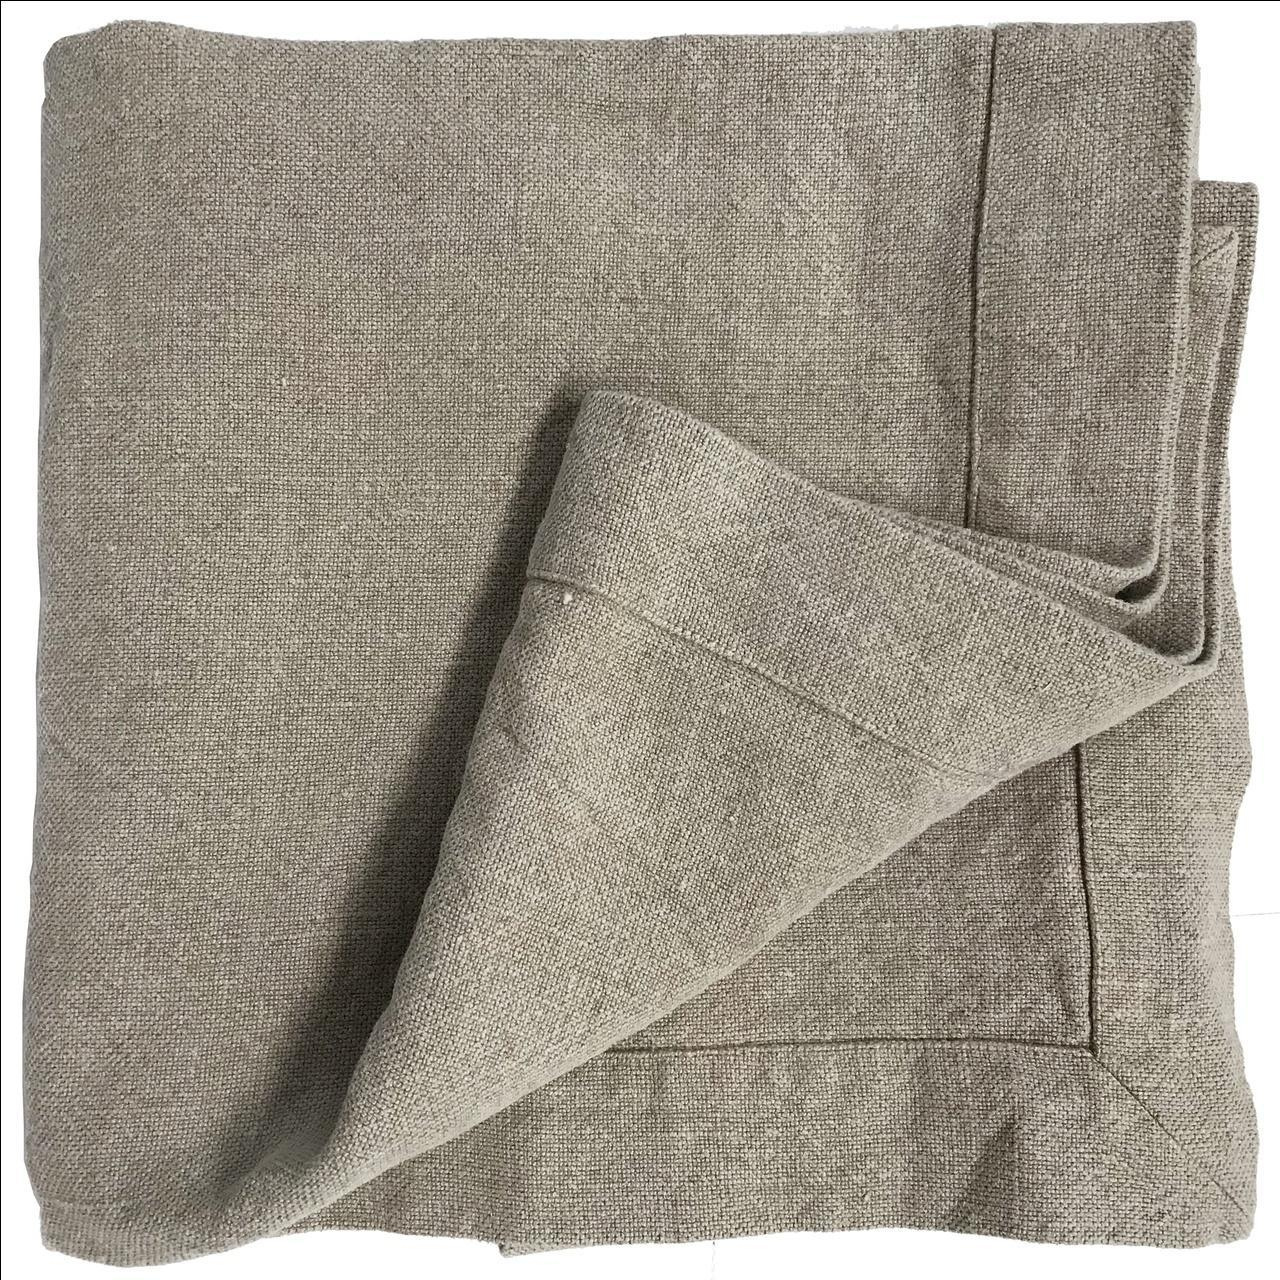towel: (7, 0, 1280, 1280)
